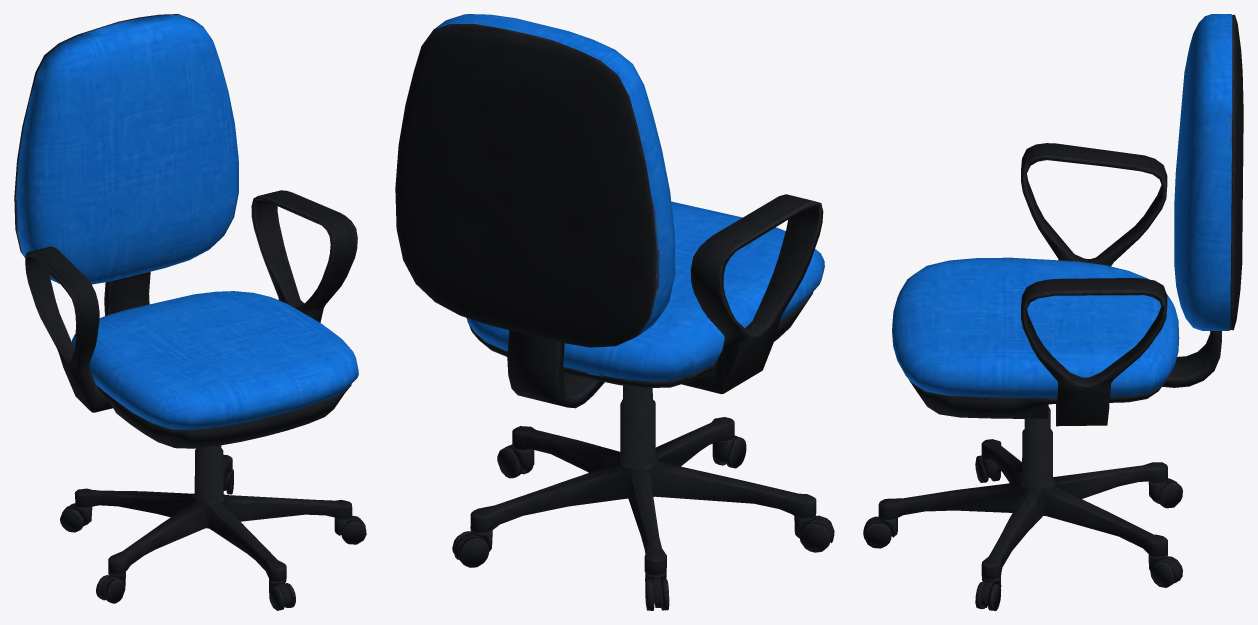
Rendered from office_chair.glb.
3 views of the same model, side by side, from view 1: azimuth 30°, elevation 25°; view 2: azimuth 150°, elevation 25°; view 3: azimuth 270°, elevation 25° (orthographic). The views are drawn at different scales.
Parts seen in each view (by area): view 1: defaultMaterial; view 2: defaultMaterial; view 3: defaultMaterial.
Boxes of the visible parts, <box> form: defaultMaterial: <box>14,14,366,610</box>; defaultMaterial: <box>395,14,834,610</box>; defaultMaterial: <box>863,14,1243,610</box>.
Bounding box in the file's own units: 0.6762 × 1.06 × 0.7217.
1 material, 1 textured.
